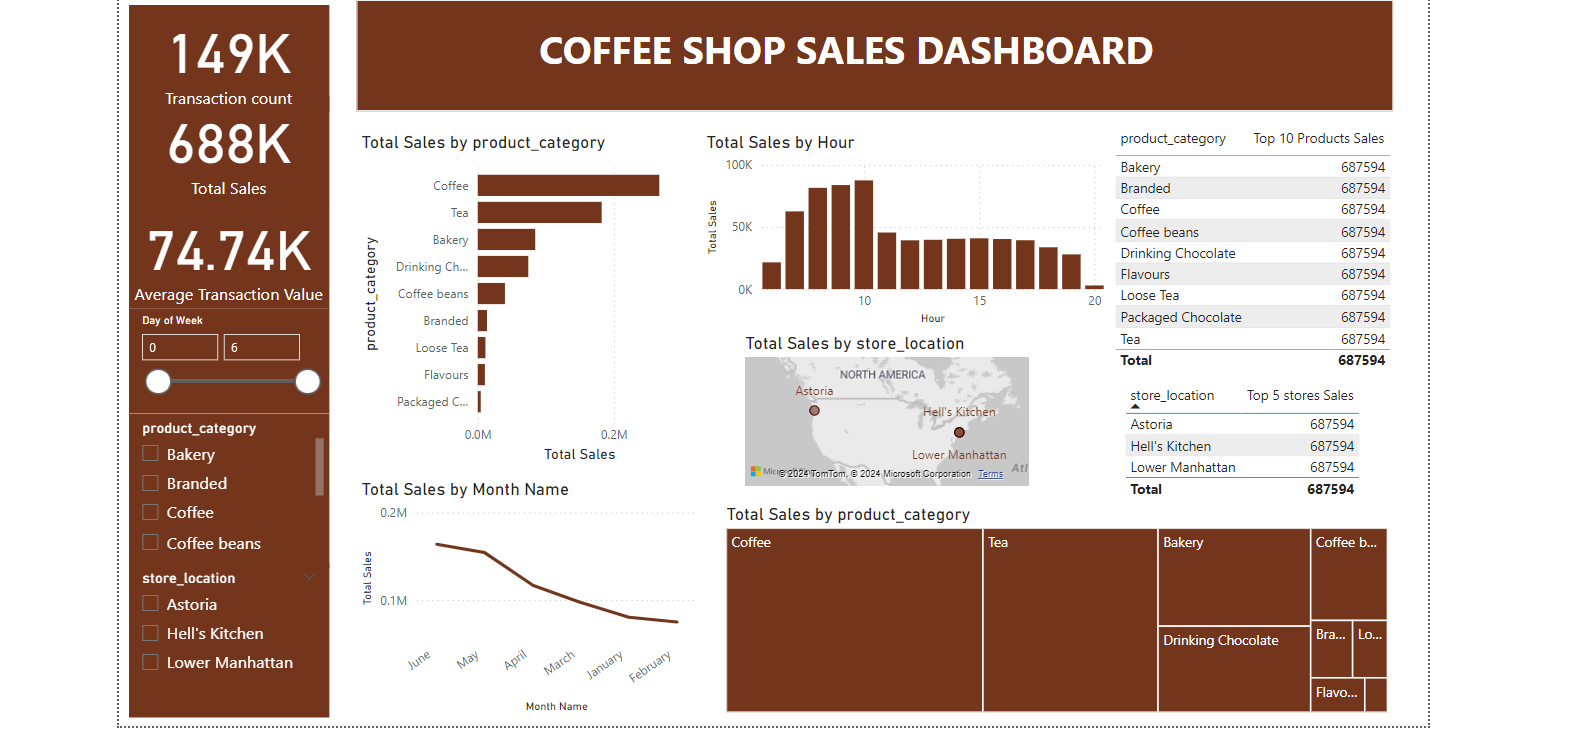

Layout of this report page (visuals, bound fields, positions):
{"tool":"powerbi","page":{"name":"Page 1","canvas":[1280,720],"ordinal":0},"visuals":[{"type":"card","fields":{"Values":["Project.Total Sales"]},"box":[9.8,103.9,195.7,101.5],"z":0},{"type":"textbox","box":[232.3,9.8,1013.7,108.8],"z":1000},{"type":"card","fields":{"Values":["Project.Transaction count"]},"box":[9.8,14.7,195.7,103.9],"z":2000},{"type":"card","fields":{"Values":["Project.Average Transaction Value"]},"box":[9.8,205.4,195.7,106.4],"z":3000},{"type":"barChart","fields":{"Category":["Project.product_category"],"Y":["Project.Total Sales"]},"box":[232.3,138.2,337.5,328.9],"z":4000},{"type":"lineChart","fields":{"Category":["Project.Month Name"],"Y":["Project.Total Sales"]},"box":[232.3,478.1,337.5,233.6],"z":5000},{"type":"columnChart","fields":{"Category":["Project.Hour"],"Y":["Project.Total Sales"]},"box":[569.8,138.2,398.6,194.4],"z":6000},{"type":"tableEx","fields":{"Values":["Project.product_category","Project.Top 10 Products Sales"]},"box":[968.5,128.4,295.9,250.7],"z":7000},{"type":"treemap","fields":{"Group":["Project.product_category"],"Values":["Project.Total Sales"]},"box":[589.4,502.6,656.7,209.1],"z":8000},{"type":"map","fields":{"Category":["Project.store_location"],"Size":["Project.Total Sales"]},"box":[607.7,335.1,287.4,155.3],"z":9000},{"type":"tableEx","fields":{"Values":["Project.store_location","Project.Top 5 stores Sales"]},"box":[978.3,380.3,267.8,132.1],"z":10000},{"type":"slicer","fields":{"Values":["Project.Day of Week"]},"box":[9.8,311.8,195.7,102.7],"z":11000},{"type":"slicer","fields":{"Values":["Project.product_category"]},"box":[9.8,414.5,195.7,150.4],"z":12000},{"type":"slicer","fields":{"Values":["Project.store_location"]},"box":[9.8,561.3,195.7,150.4],"z":13000}]}

Visuals, with their boxes on the page's 1280x720 design canvas (x1, y1, x2, y2). These are canvas units, not pixel positions in the 1579x733 screenshot, which may show the page scaled, cropped or inside an application window:
card - Project.Total Sales: 10/104/206/205
textbox: 232/10/1246/119
card - Project.Transaction count: 10/15/206/119
card - Project.Average Transaction Value: 10/205/206/312
barChart - Project.product_category x Project.Total Sales: 232/138/570/467
lineChart - Project.Month Name x Project.Total Sales: 232/478/570/712
columnChart - Project.Hour x Project.Total Sales: 570/138/968/333
tableEx - Project.product_category x Project.Top 10 Products Sales: 968/128/1264/379
treemap - Project.product_category x Project.Total Sales: 589/503/1246/712
map - Project.store_location x Project.Total Sales: 608/335/895/490
tableEx - Project.store_location x Project.Top 5 stores Sales: 978/380/1246/512
slicer - Project.Day of Week: 10/312/206/414
slicer - Project.product_category: 10/414/206/565
slicer - Project.store_location: 10/561/206/712
